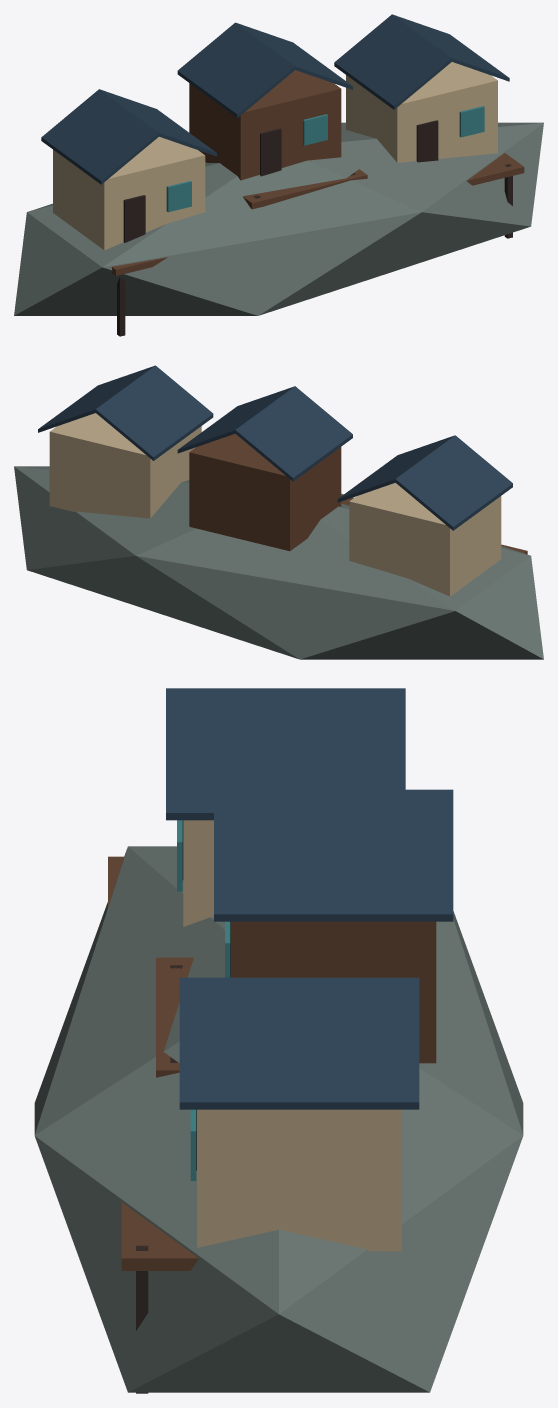
File: PirateCove_SmugglerVillage_Simple.glb
3 renders of one model, top to bottom at view 1: azimuth 30°, elevation 25°; view 2: azimuth 150°, elevation 25°; view 3: azimuth 270°, elevation 25°, orthographic. The views are drawn at different scales.
Parts seen in each view (by area): view 1: PirateCove_SmugglerVillage_Simple; view 2: PirateCove_SmugglerVillage_Simple; view 3: PirateCove_SmugglerVillage_Simple.
Part boxes in pixels (x1,y1,x2,y2): PirateCove_SmugglerVillage_Simple: (14, 14, 543, 336); PirateCove_SmugglerVillage_Simple: (14, 365, 543, 659); PirateCove_SmugglerVillage_Simple: (34, 688, 523, 1393).
Bounding box in the file's own units: 17.89 × 7.62 × 7.15.
